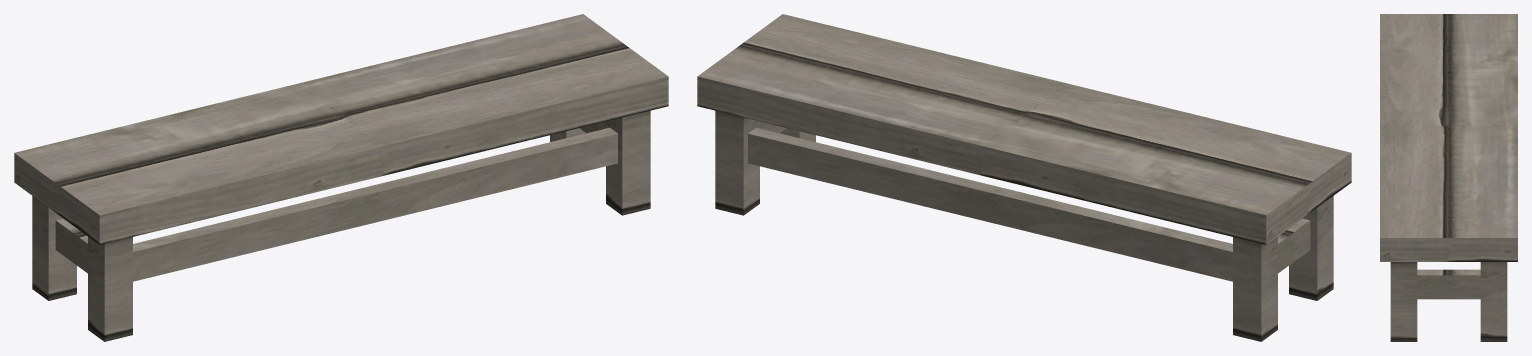
File: bench.fbx
The picture shows the model from 3 angles, left to right: view 1: azimuth 30°, elevation 25°; view 2: azimuth 150°, elevation 25°; view 3: azimuth 270°, elevation 25°; orthographic projection. The views are drawn at different scales.
Parts seen in each view (by area): view 1: mergedBlocks; view 2: mergedBlocks; view 3: mergedBlocks.
Boxes of the visible parts, x1,y1,x2,y2 form: mergedBlocks: (14, 14, 668, 341); mergedBlocks: (697, 14, 1351, 341); mergedBlocks: (1380, 14, 1517, 341).
Bounding box in the file's own units: 10 × 2.26 × 2.6.
2 materials, 2 textured.
